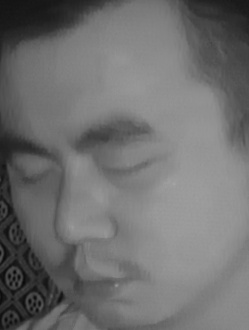blink: (99, 150, 156, 193), (15, 159, 60, 193)
mouth: (66, 257, 136, 303)
